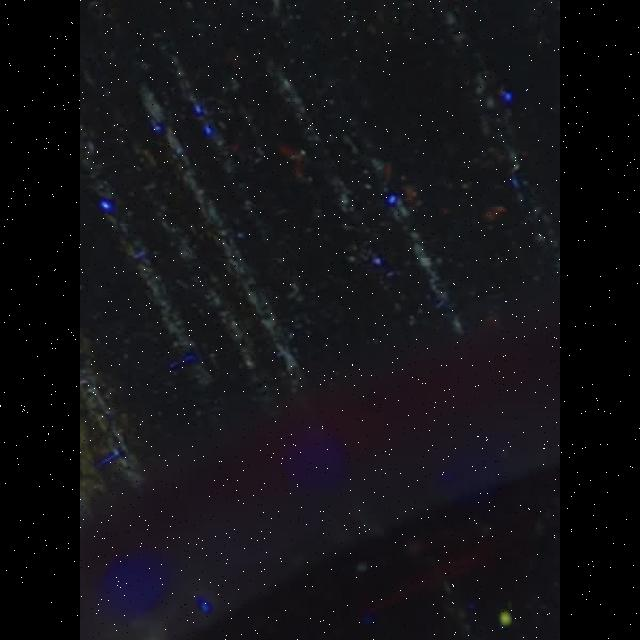microbeads: (498, 610, 516, 626)
